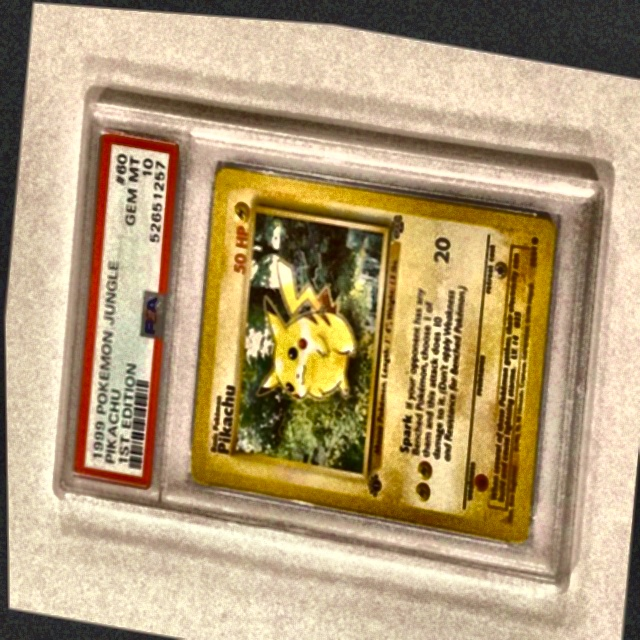card: (187, 161, 554, 536)
